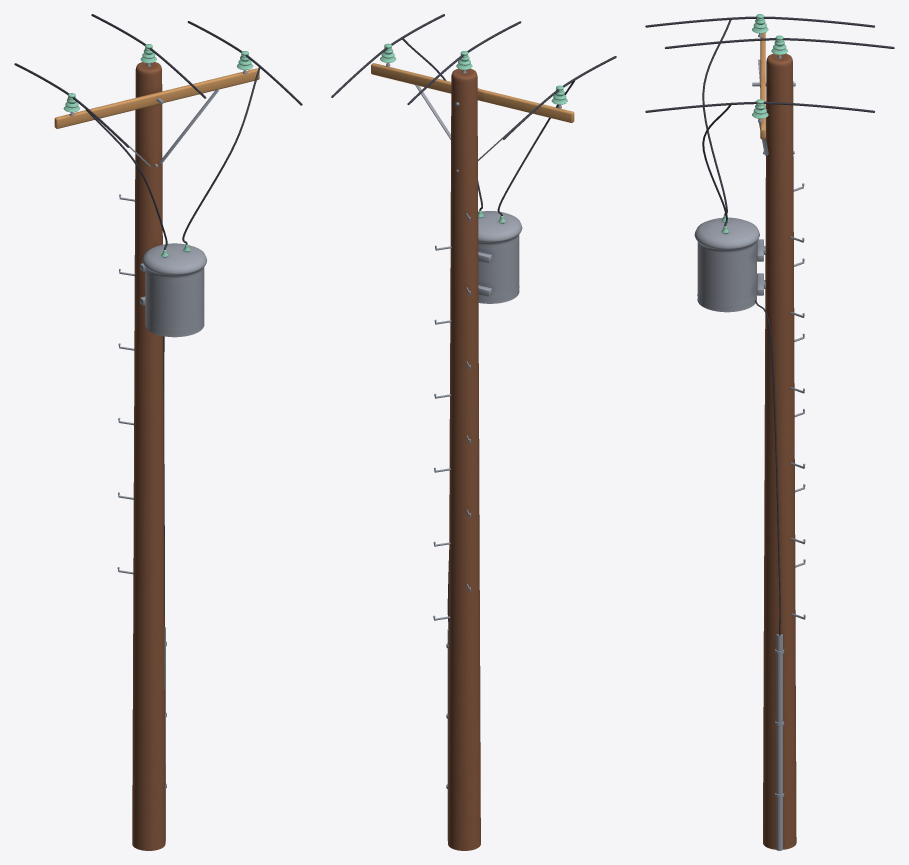
Rendered from insulator-source.glb.
3 renders of one model, left to right at view 1: azimuth 30°, elevation 25°; view 2: azimuth 150°, elevation 25°; view 3: azimuth 270°, elevation 25°, orthographic.
Visible parts, largest first — view 1: power-pole_body; view 2: power-pole_body; view 3: power-pole_body.
Boxes of the visible parts, x1,y1,x2,y2 form: power-pole_body: [14, 14, 302, 850]; power-pole_body: [331, 14, 616, 850]; power-pole_body: [645, 14, 894, 850].
Bounding box in the file's own units: 2.4 × 9 × 2.52.
1 material, 1 textured.
